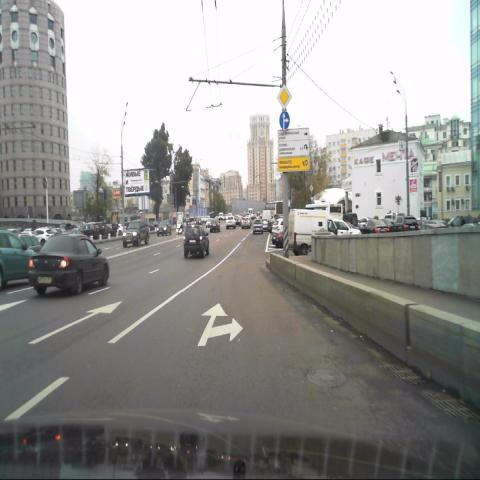2_1: (277, 82, 292, 112)
4_1_4: (280, 108, 290, 128)
